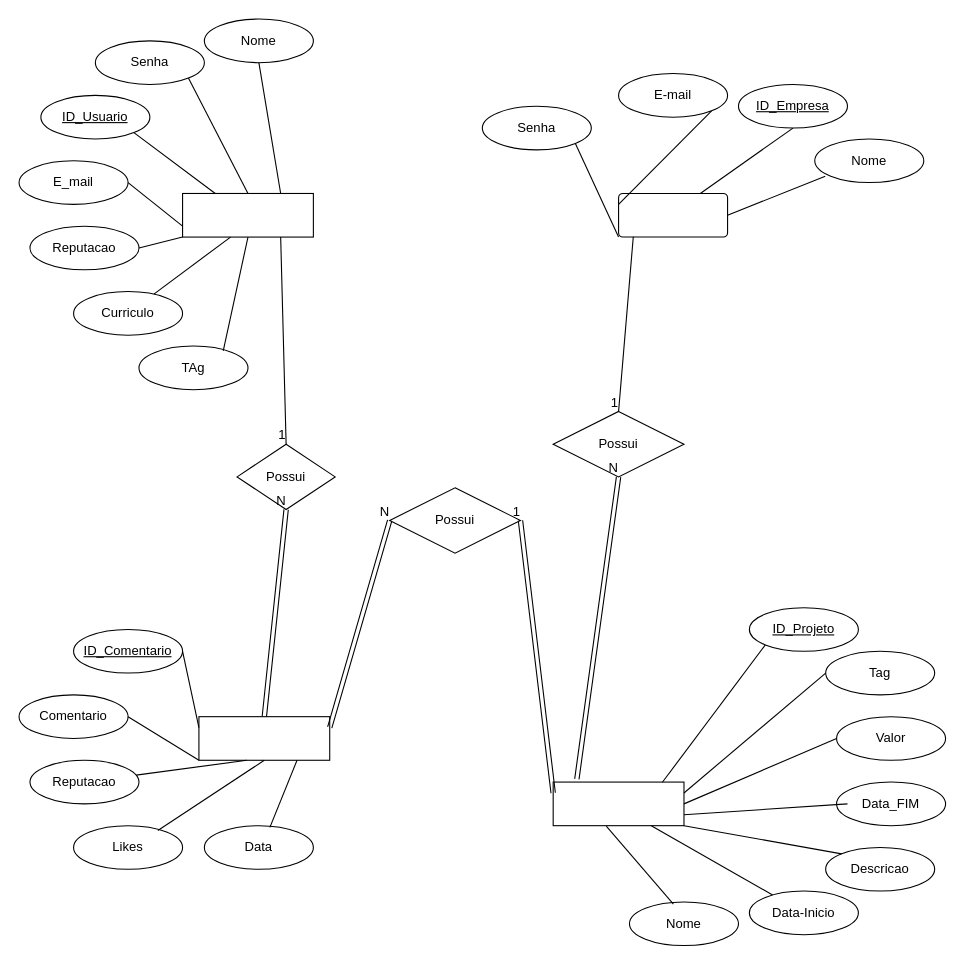
Image size: 965x965. Some labels were removed from this diagram. Here are the shapes that lost their labels. From the top down, the box of each, then its label:
(181, 192, 313, 237): Usuario
(617, 192, 728, 237): Empresa
(198, 716, 330, 760): Comentarios
(552, 781, 684, 826): Projetos
